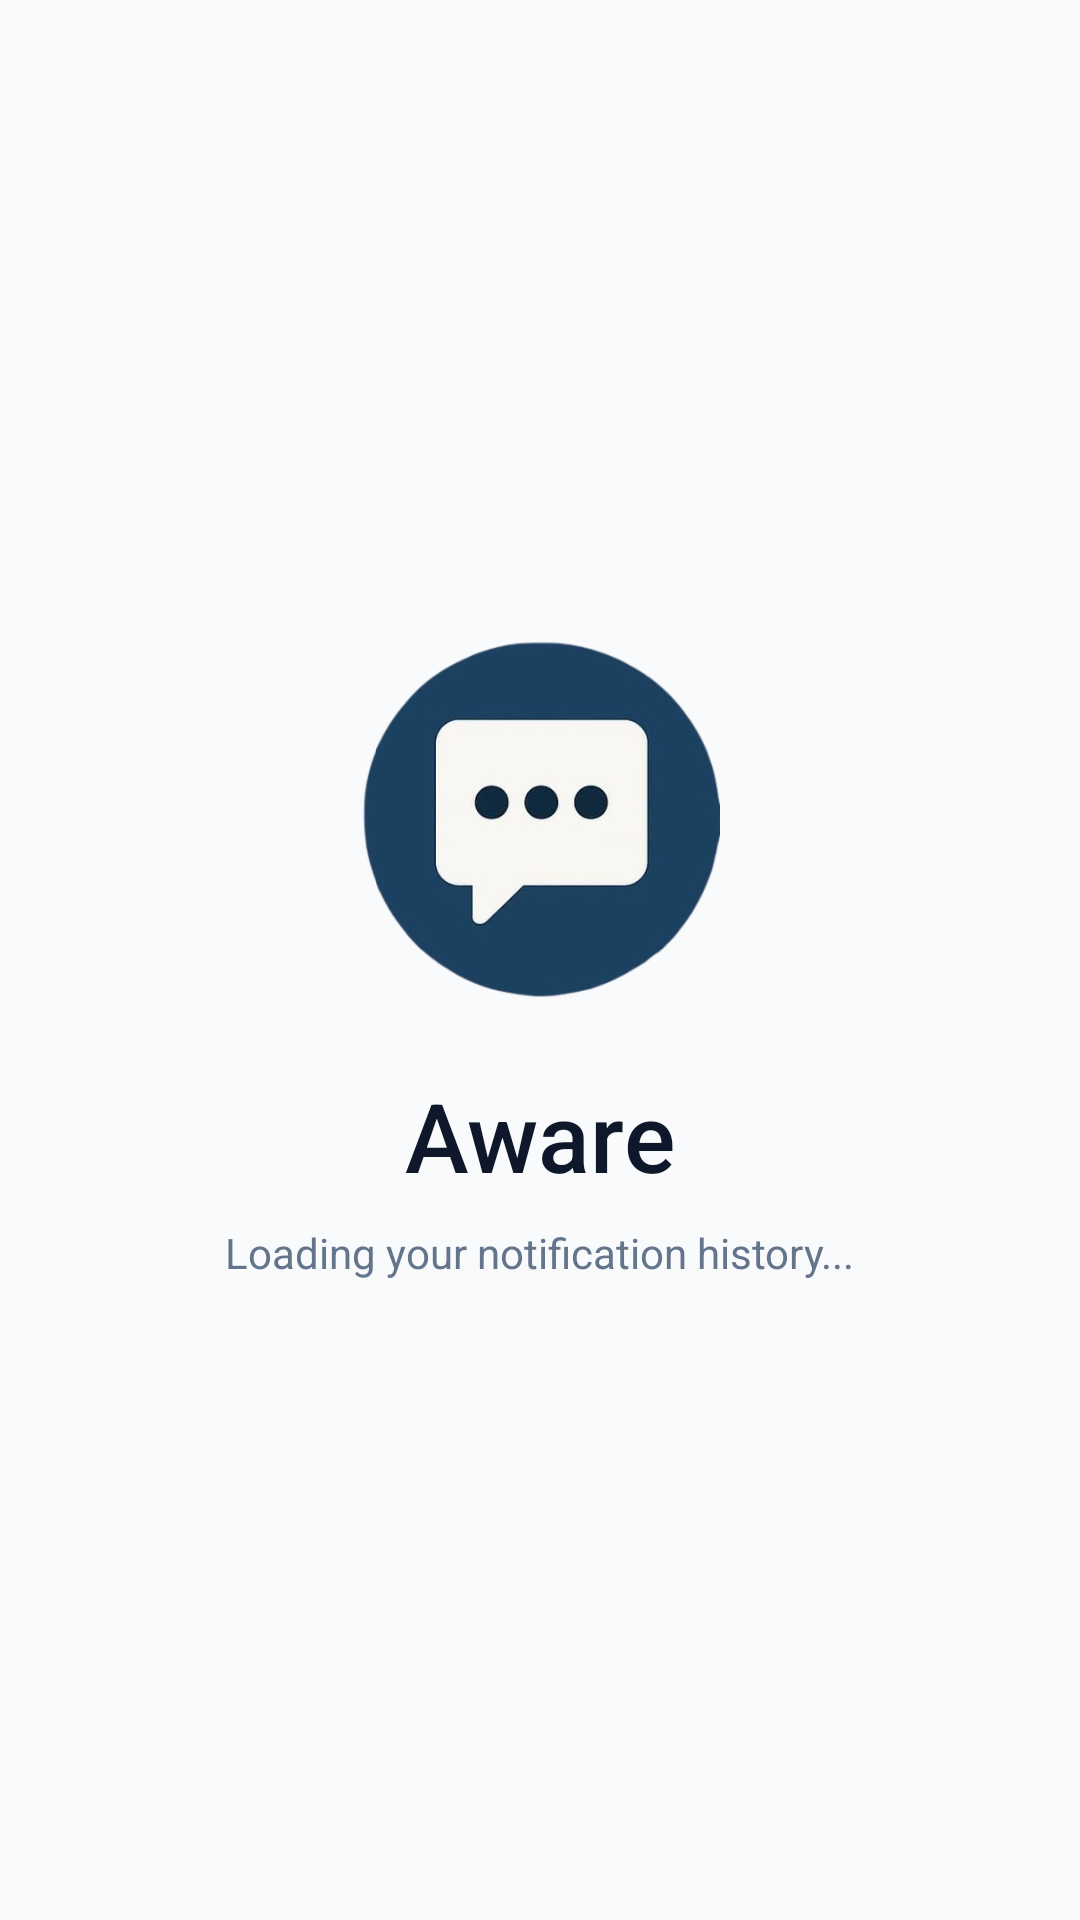

Icons on this 1080px x 1920px Android screen, each with its box as (x1, y1, x2, y2):
App Icon: (363, 642, 720, 997)
